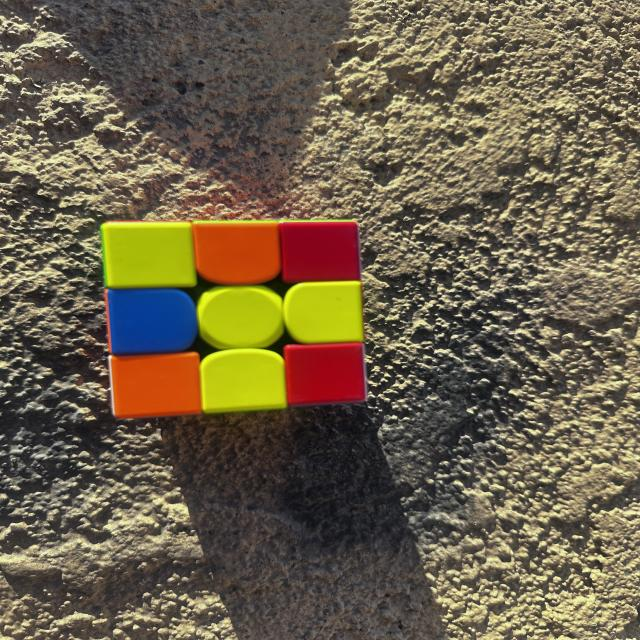sticker: (106, 226, 189, 284), (113, 358, 199, 413), (110, 293, 191, 349), (197, 224, 276, 281), (205, 355, 285, 410), (203, 292, 278, 343), (290, 348, 363, 400), (283, 226, 357, 276), (293, 290, 359, 339)
